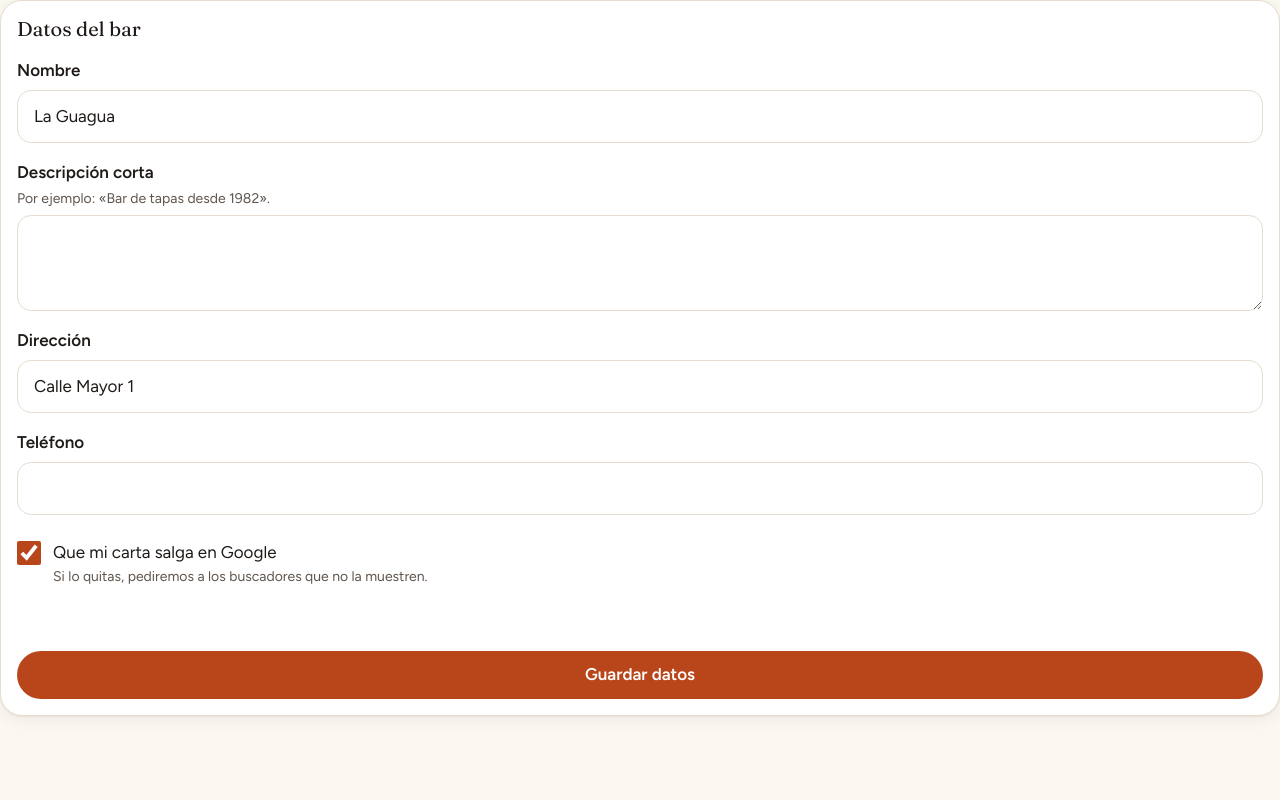
Test: FormularioDatosLocal › muestra el error del campo en español, no el código
The width and height of the screenshot is (1280, 800).
Click the button "Guardar datos". click: (640,674)
box: [17,650,1263,698]
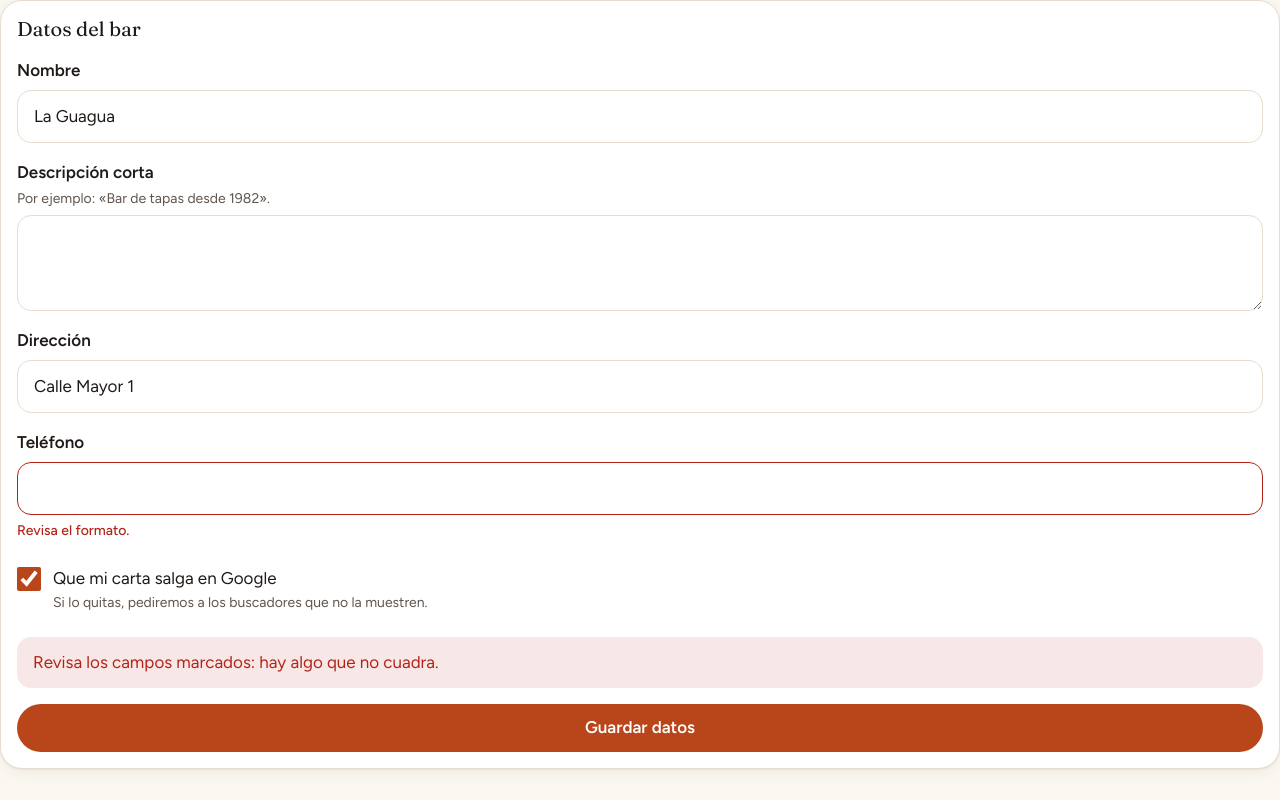
Expected: the text "Revisa el formato." is shown, [17,522,129,539]
